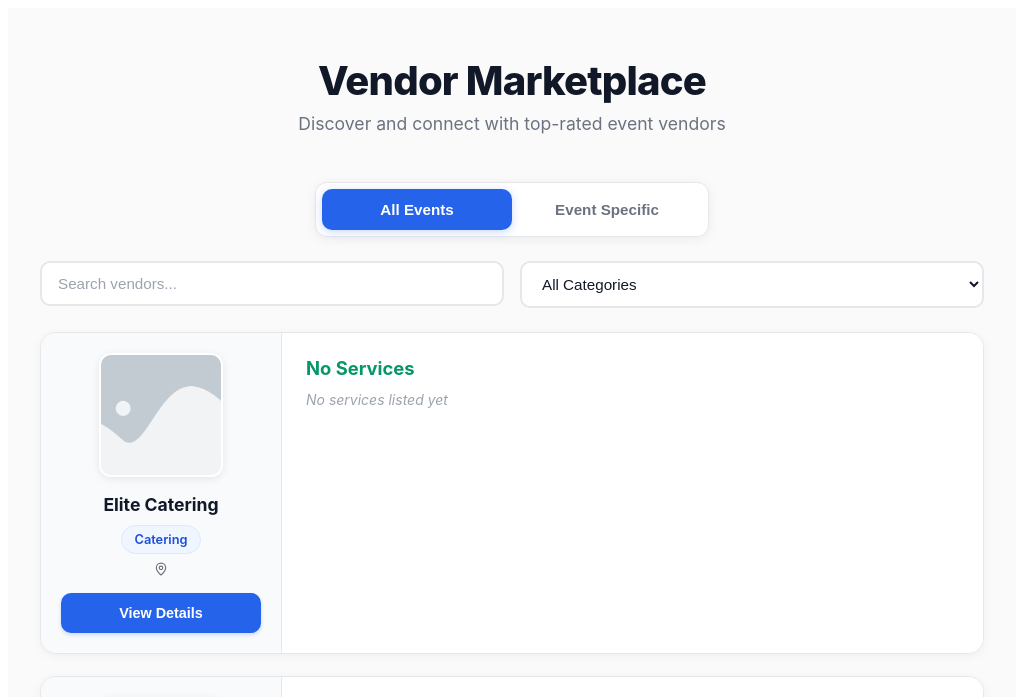
Test: PlannerVendorMarketplace › switches to event-specific tab
Expected: the heading "Elite Catering" is shown, [103,494,219,515]
What coordinates should you click on to do the following:
click the button "Event Specific"
I would click on:
 (607, 210)
Its box is [512,189,702,230].
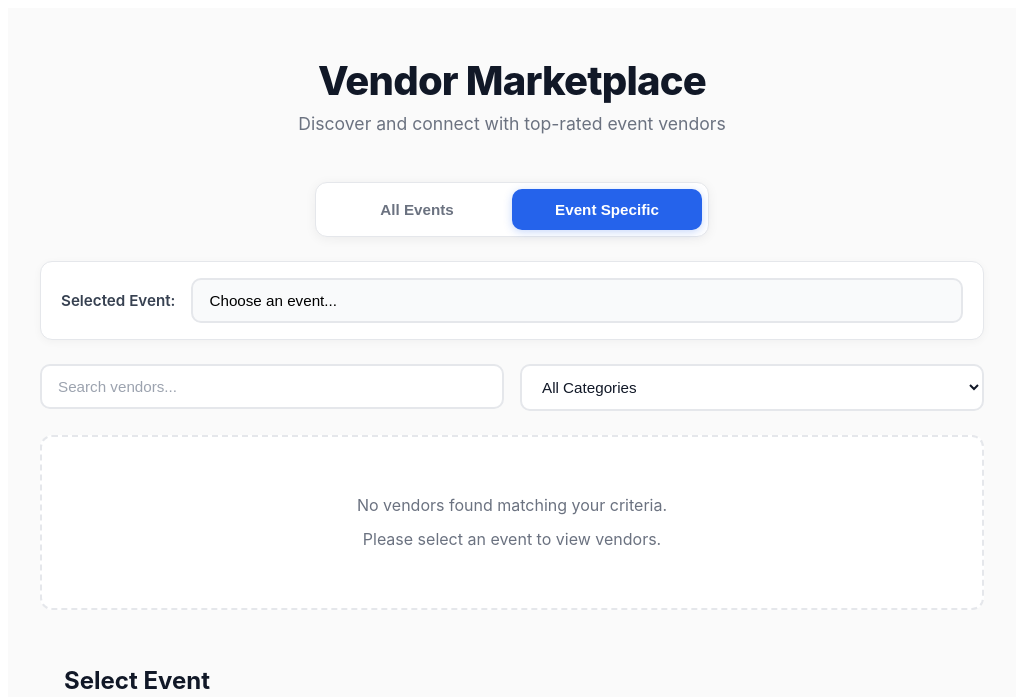
Now the text "Selected Event:" is shown, box [61,291,176,310]
